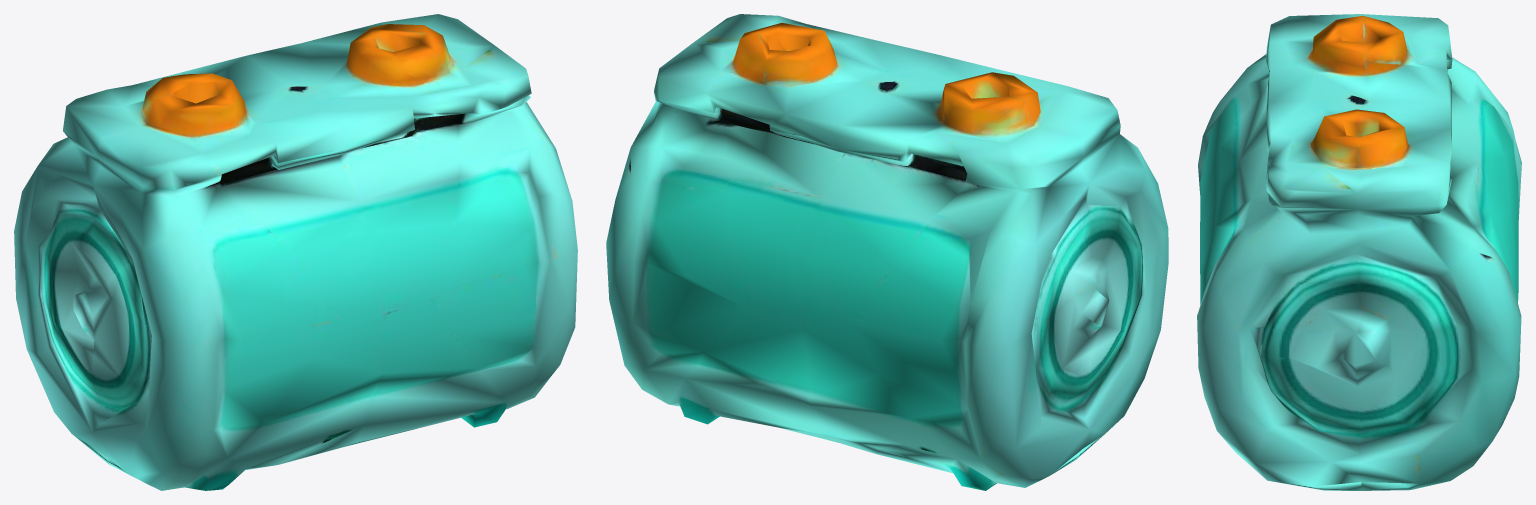
Rendered from battery.min.glb.
3 views of the same model, side by side, from view 1: azimuth 30°, elevation 25°; view 2: azimuth 150°, elevation 25°; view 3: azimuth 270°, elevation 25° (orthographic). The views are drawn at different scales.
Bounding box in the file's own units: 1.9 × 1.51 × 1.34.
Materials: 1 (1 with a texture image).
